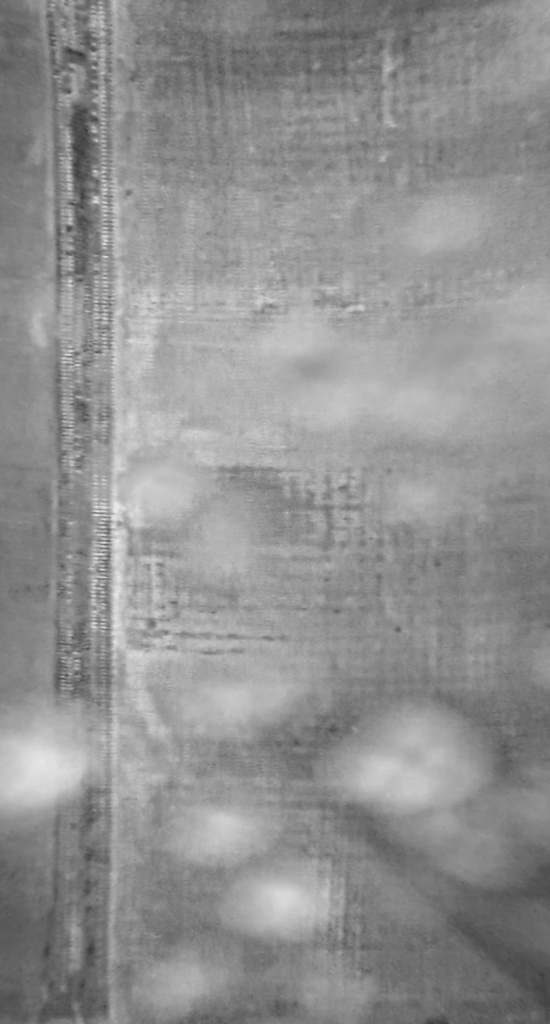splice: (41, 1, 138, 1021)
